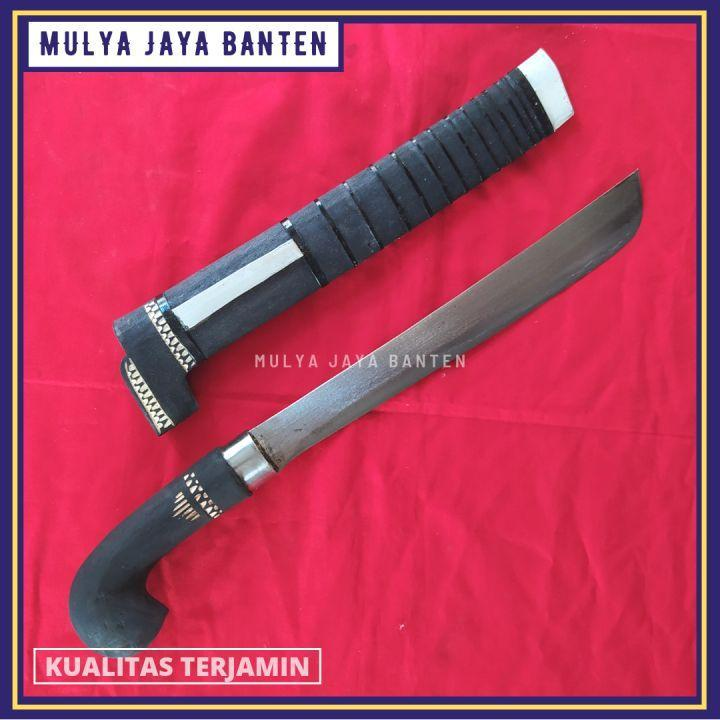facao: (59, 172, 641, 662)
